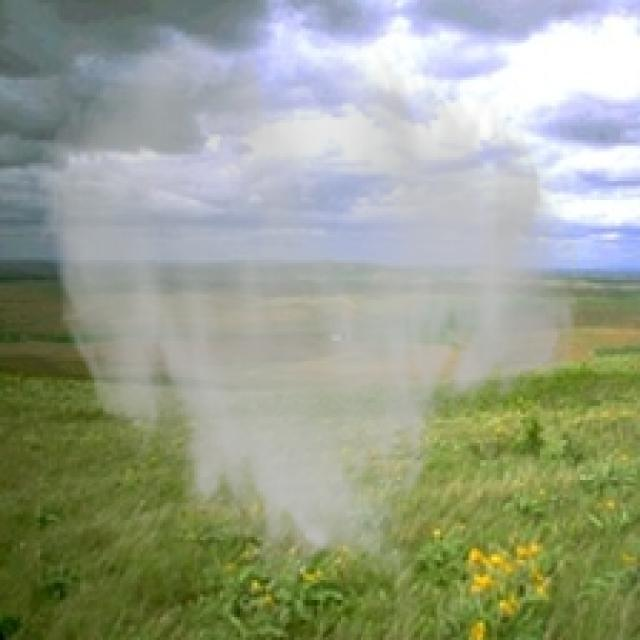smoke: (31, 29, 586, 592)
